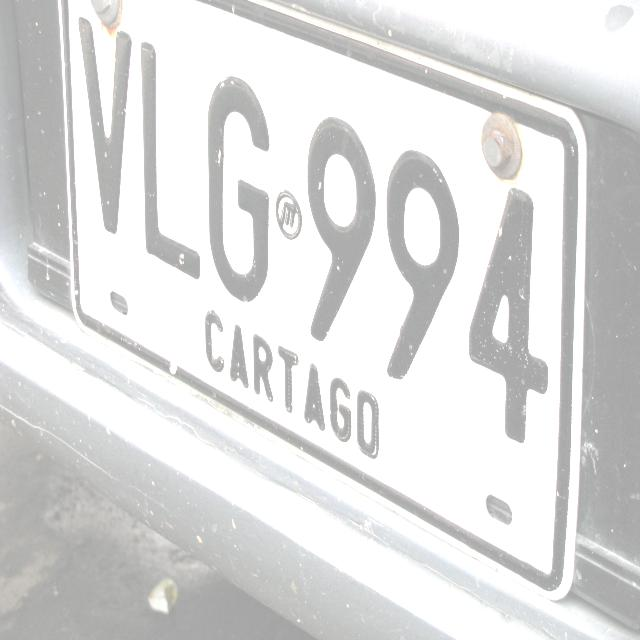placa: (54, 0, 590, 612)
